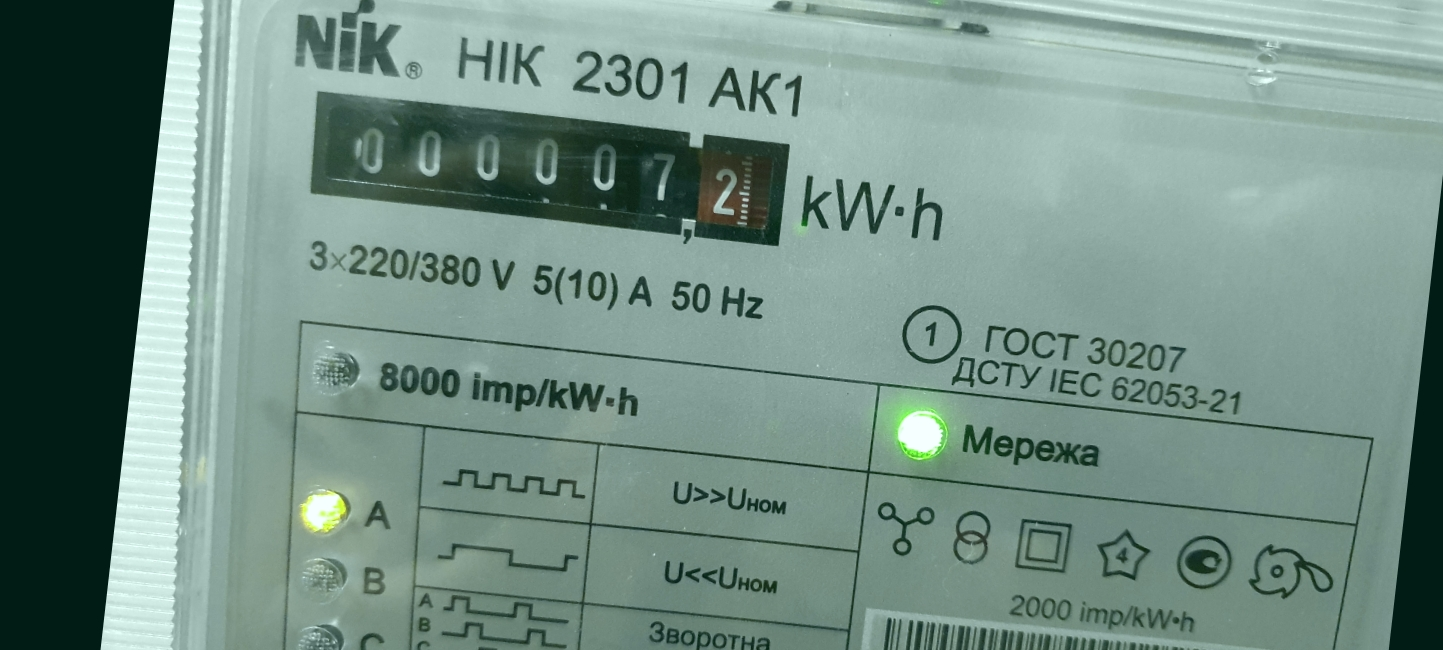0: (410, 124, 450, 179), (470, 128, 507, 184), (528, 132, 565, 188), (586, 139, 623, 195), (353, 122, 391, 176)
2: (707, 164, 743, 218)
7: (644, 147, 679, 205)
screen: (286, 69, 812, 268)
